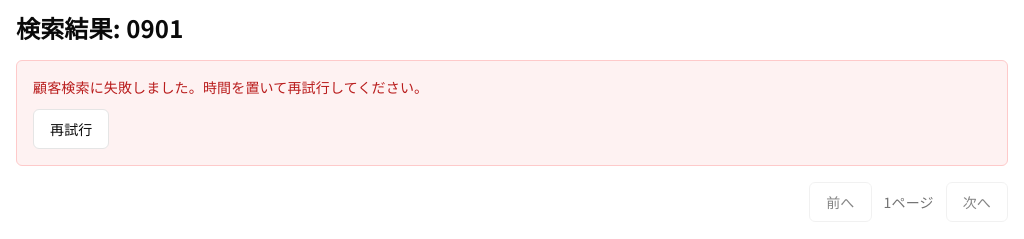
Test: SearchContent › shows an explicit retry action when the customer API fails
Expected: the message shows "顧客検索に失敗しました", [33, 77, 428, 97]
Click the button "再試行".
click(71, 129)  # box [33, 109, 110, 149]
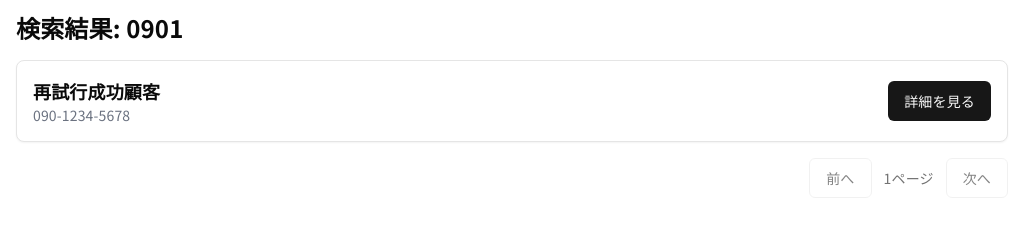
Expected: the heading "再試行成功顧客" is shown, [33, 77, 160, 105]
